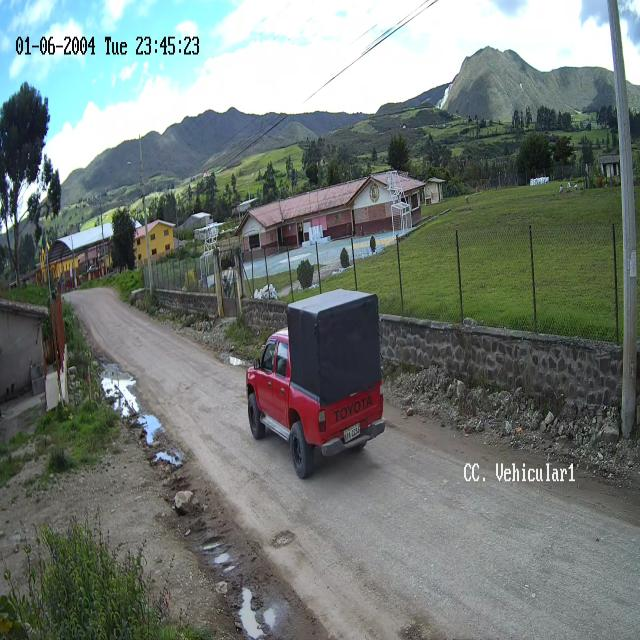CMT: (247, 327, 385, 479)
